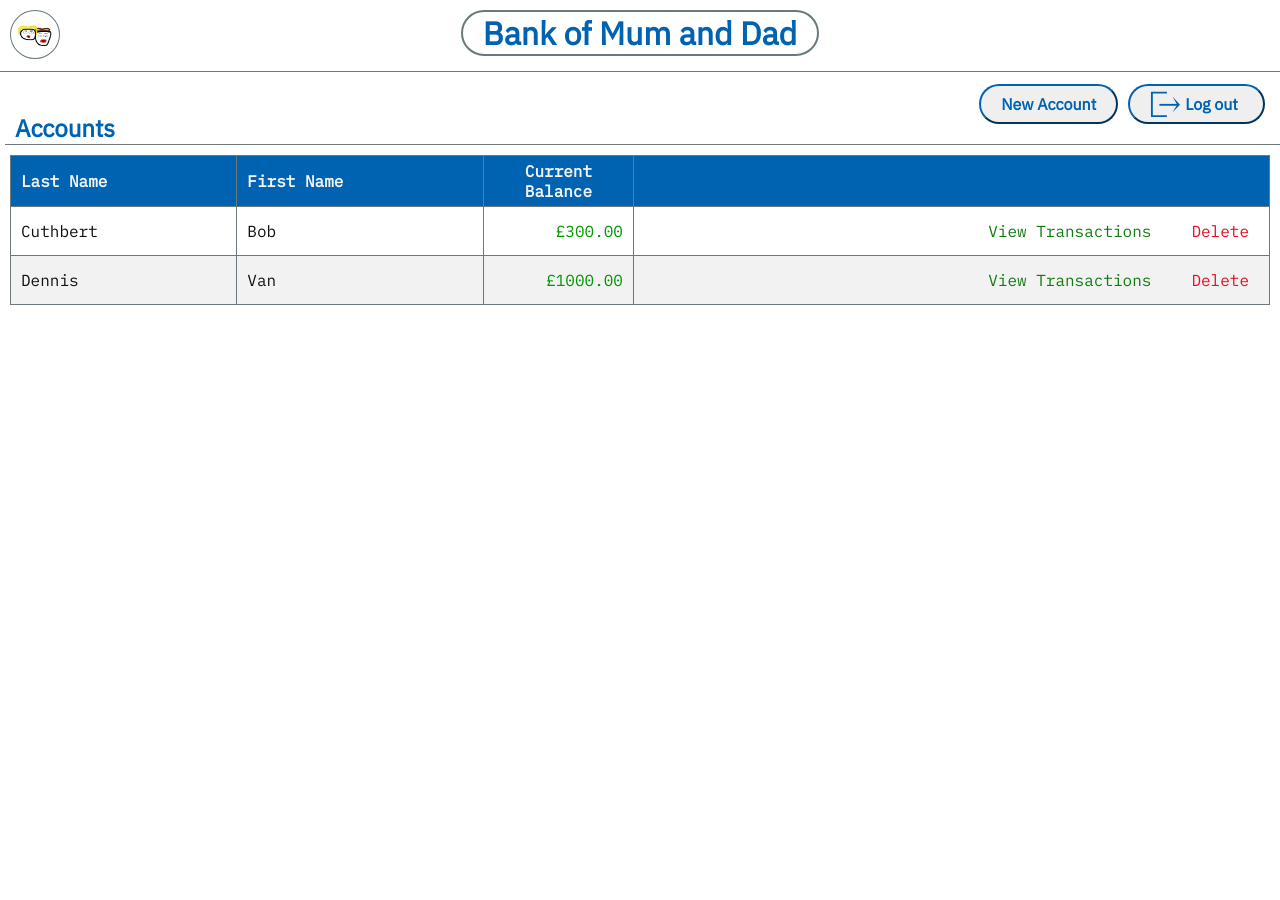
Test: accounts page › new account form › displays error if there is no value for opening balance
Click the button "New Account" at (1049, 104), box [979,84,1118,124]
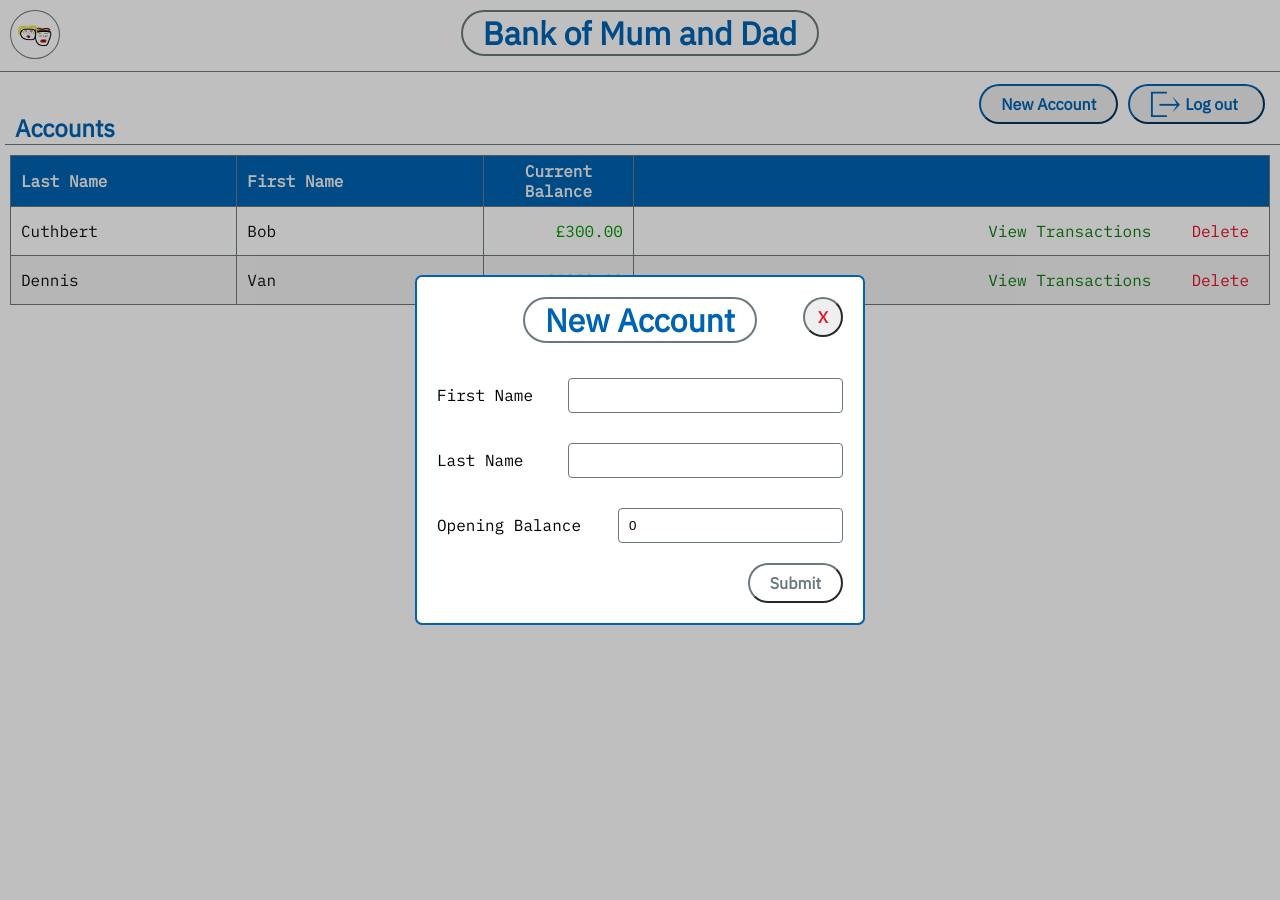
Type "name" into the field labelled "First Name" at (706, 396), box [568,378,843,413]
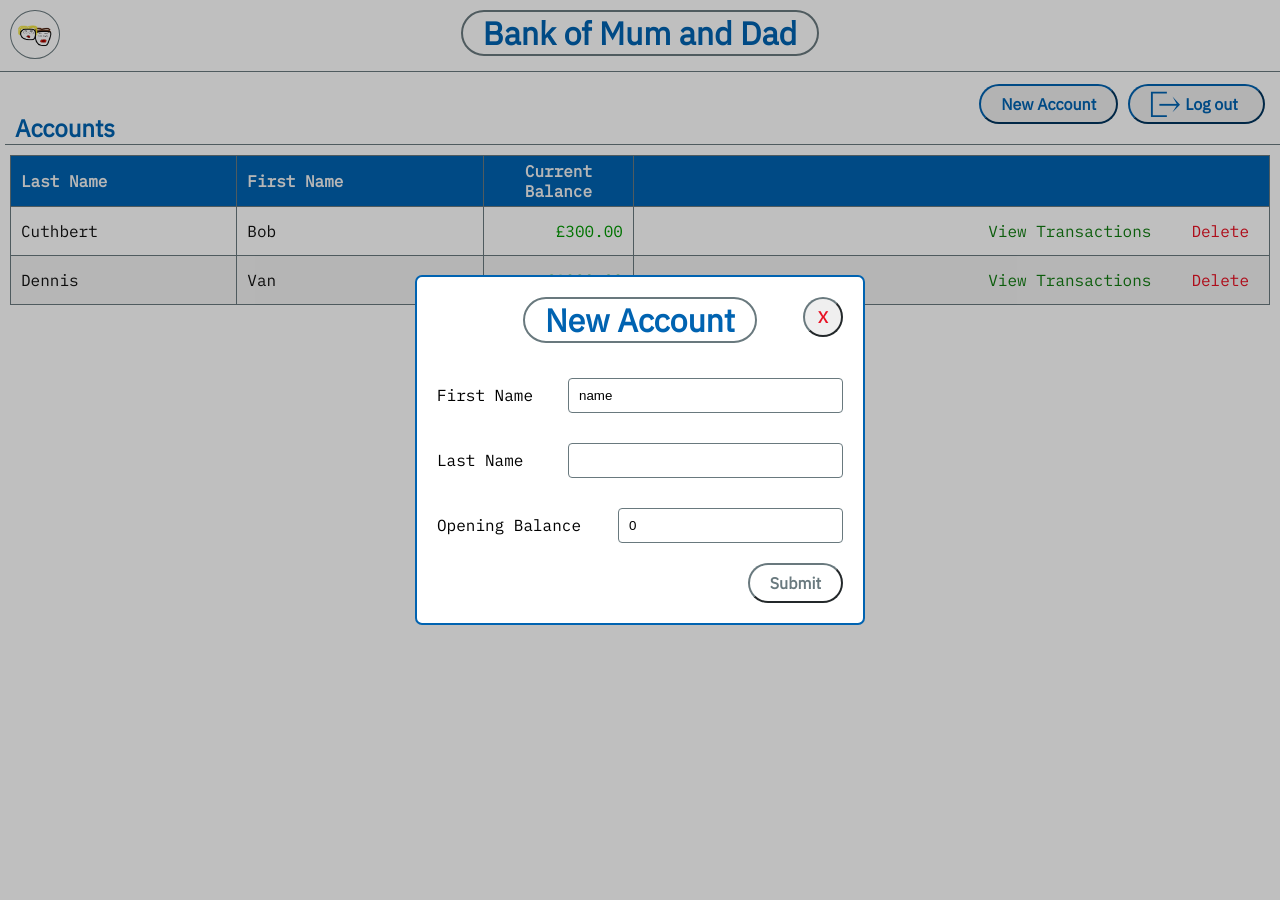
Type "surname" into the field labelled "Last Name" at (706, 460), box [568,443,843,478]
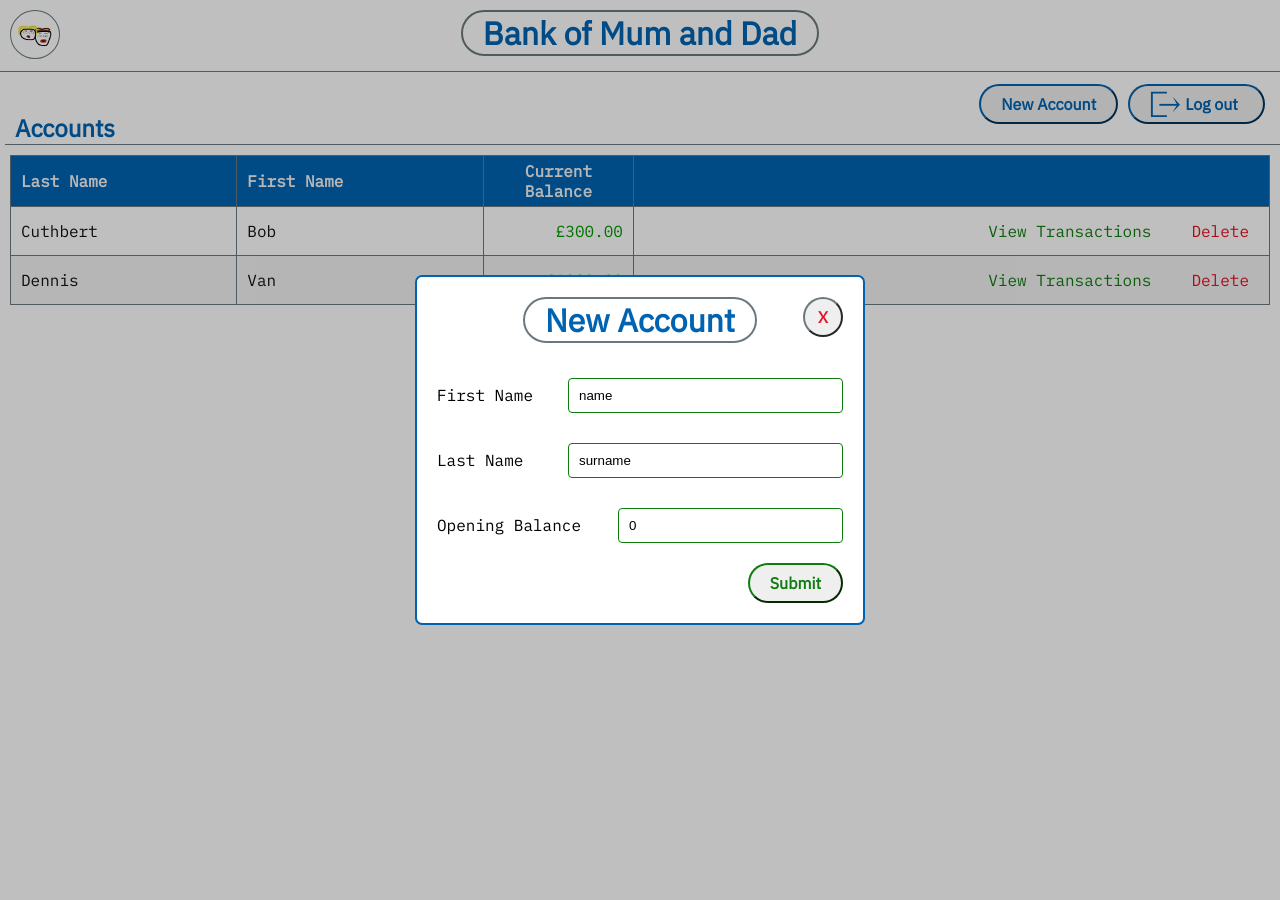
Clear the field labelled "Opening Balance" at (730, 526), box [618,508,843,543]
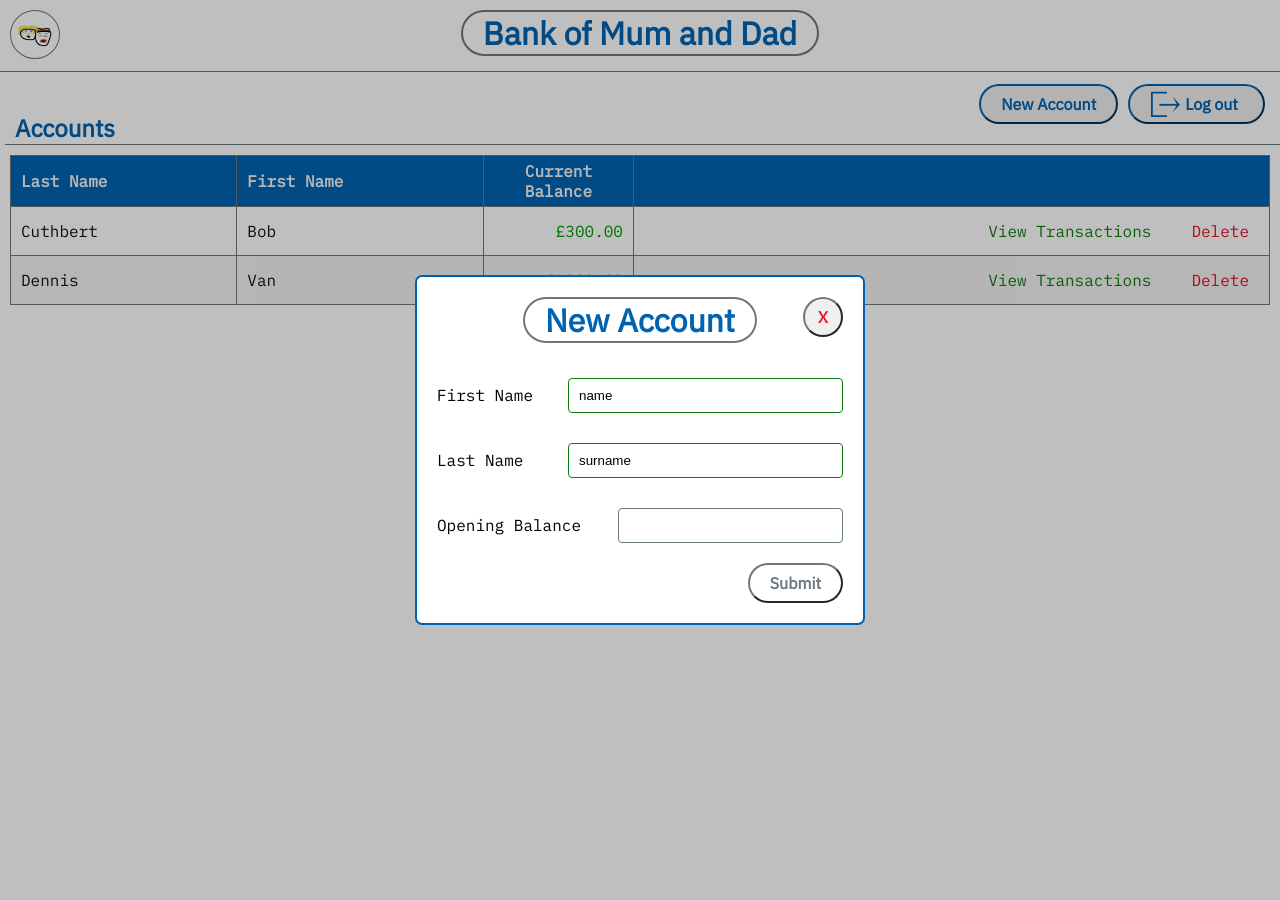
Press Tab
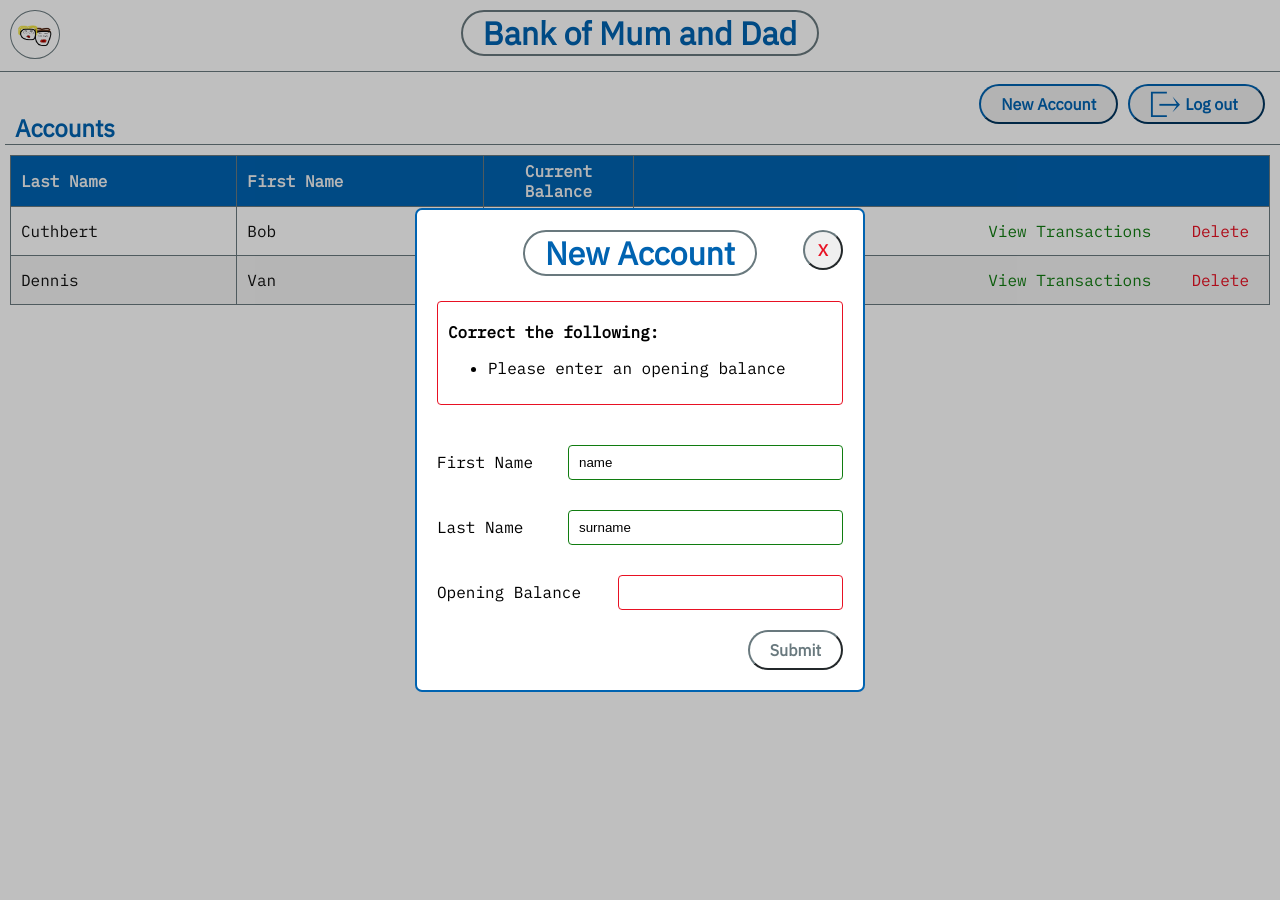
Check: the list item reads "Please enter an opening balance", box [488,358,786,378]
